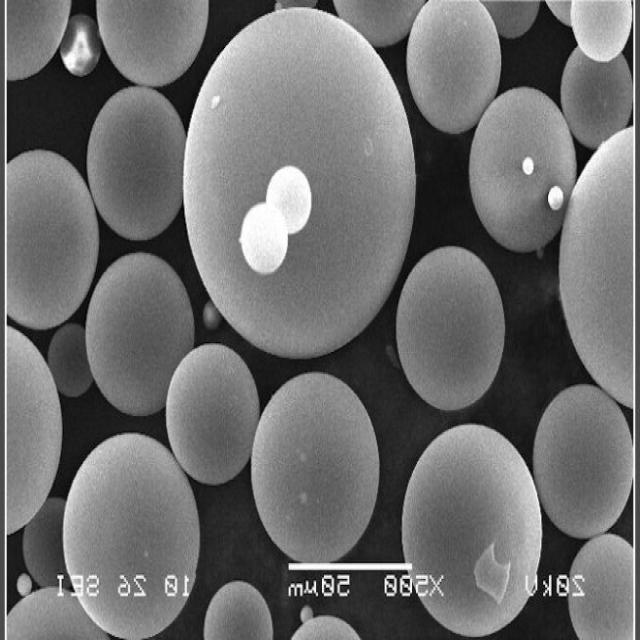cells: (178, 12, 416, 371), (395, 418, 547, 638), (62, 428, 208, 640), (248, 370, 385, 569), (558, 121, 636, 422), (76, 237, 196, 429), (389, 243, 510, 425), (464, 79, 578, 263), (8, 135, 100, 338), (82, 81, 187, 252), (530, 378, 630, 544), (161, 332, 261, 497), (400, 0, 503, 141), (4, 325, 62, 540), (94, 0, 208, 89), (554, 39, 633, 150), (240, 166, 312, 270), (566, 531, 634, 640), (202, 575, 272, 640), (569, 0, 632, 63)
